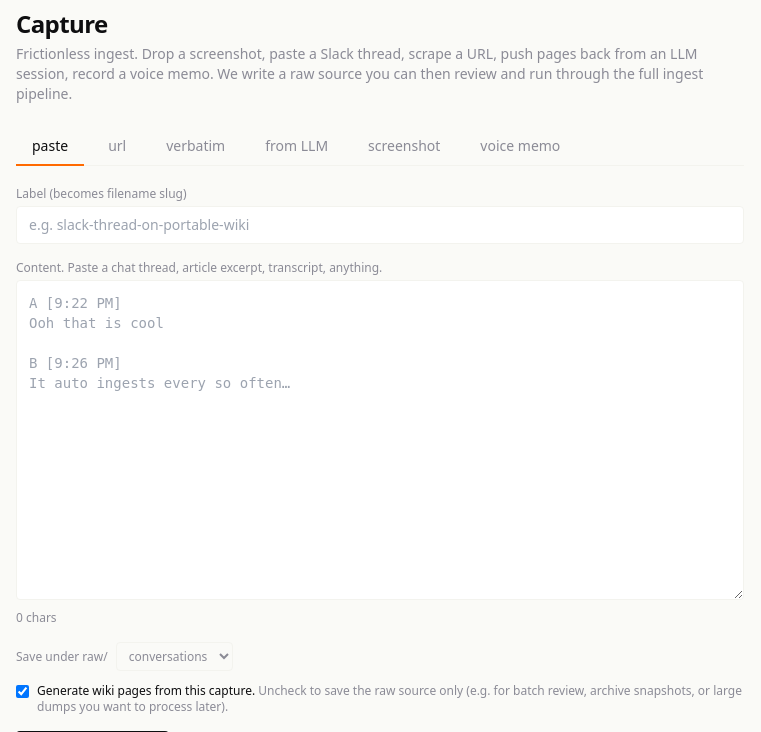
Test: Capture page — verbatim tab › starts on paste tab and switches to verbatim when clicked
Click the button "verbatim" at (196, 147), box [150,128,241,166]
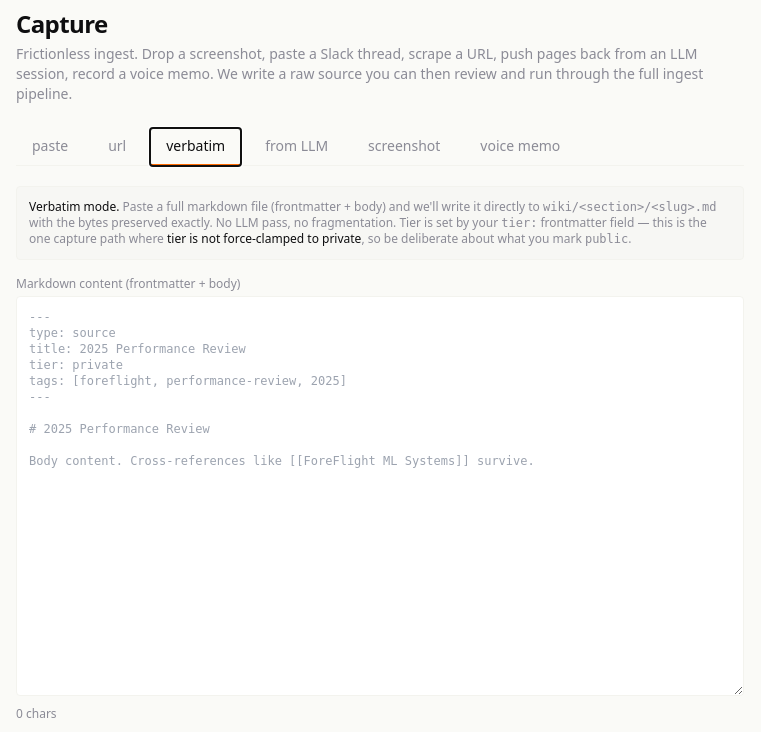
Check: the text box with test id "verbatim-content-input" is shown, box [16,296,744,696]
